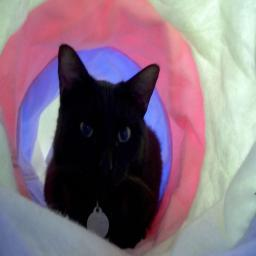catnose: (96, 151, 114, 178)
